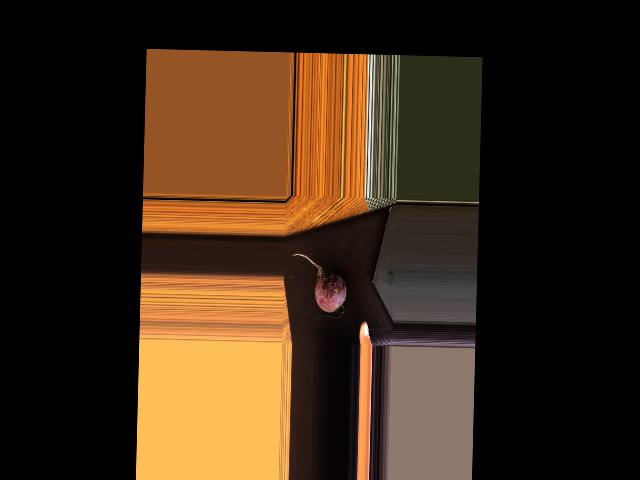beet: (291, 253, 347, 323)
